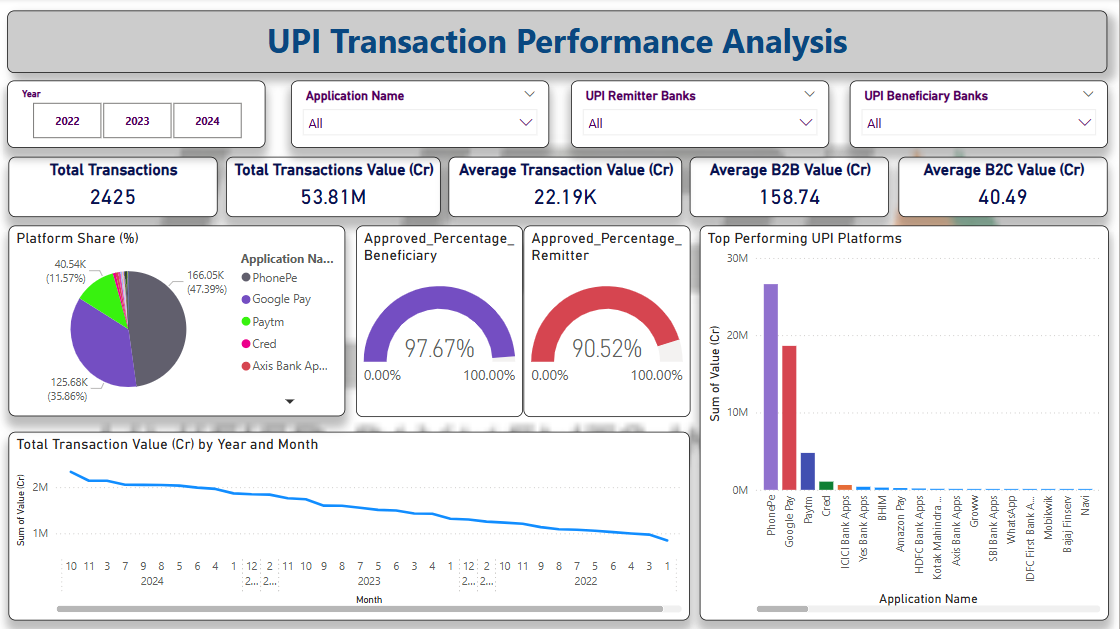

What the dashboard file says about the page in this screenshot:
{"tool":"powerbi","page":{"name":"Page 1","canvas":[1280,720],"ordinal":0},"visuals":[{"type":"textbox","box":[13.5,14.7,1254.6,70.9],"z":0},{"type":"card","title":"Total Transactions","fields":{"Values":["combined_BeneficiaryBanks_data.TotalTransactionVolume"]},"box":[14.7,181,238.5,68.5],"z":1000},{"type":"card","title":"Total Transactions Value (Cr)","fields":{"Values":["combined_BeneficiaryBanks_data.TotalTransactionValue"]},"box":[261.7,181,244.6,68.5],"z":2000},{"type":"card","title":"Average B2B Value (Cr) ","fields":{"Values":["combined_UPI_apps_data.Average B2B Value"]},"box":[791.2,181,227.4,68.5],"z":3000},{"type":"slicer","fields":{"Values":["combined_UPI_apps_data.Application Name"]},"box":[336.3,94.2,294.7,77],"z":4000},{"type":"card","title":"Average B2C Value (Cr)","fields":{"Values":["combined_UPI_apps_data.Average B2C Value"]},"box":[1029.6,181,238.5,68.5],"z":5000},{"type":"card","title":"Average Transaction Value (Cr)","fields":{"Values":["combined_UPI_apps_data.average transaction value"]},"box":[516,181,266.6,68.5],"z":6000},{"type":"slicer","fields":{"Values":["combined_RemitterBanks_data.UPI Remitter Banks"]},"box":[655.4,94.2,294.7,77],"z":7000},{"type":"slicer","fields":{"Values":["combined_UPI_apps_data.Year"]},"box":[13.5,94.2,294.7,77],"z":8000},{"type":"slicer","fields":{"Values":["combined_BeneficiaryBanks_data.UPI Beneficiary Banks"]},"box":[973.4,94.2,294.7,77],"z":9000},{"type":"lineClusteredColumnComboChart","title":"Total Transaction Value (Cr) by Year and Month","fields":{"Category":["combined_UPI_apps_data.Year","combined_UPI_apps_data.Month"],"Y2":["Sum(combined_UPI_apps_data.Value (Cr))"]},"box":[14.3,494.6,776.8,215.2],"z":10000},{"type":"pieChart","title":"Platform Share (%)","fields":{"Y":["Sum(combined_UPI_apps_data.Volume (Mn))"],"Category":["combined_UPI_apps_data.Application Name"]},"box":[14.7,259.2,384,217.7],"z":11000},{"type":"columnChart","title":"Top Performing UPI Platforms ","fields":{"Category":["combined_UPI_apps_data.Application Name"],"Y":["Sum(combined_UPI_apps_data.Value (Cr))"]},"box":[802.5,259.4,466.1,450.4],"z":12000},{"type":"gauge","title":"Approved_Percentage_Beneficiary","fields":{"Y":["Avg(combined_BeneficiaryBanks_data.Approved %)"]},"box":[410.3,259.3,190.7,218.2],"z":12001},{"type":"gauge","title":"Approved_Percentage_Remitter","fields":{"Y":["Avg(combined_RemitterBanks_data.Approved %)"]},"box":[601,259.3,190.7,218.2],"z":12002}]}

Visuals, with their boxes in screenshot pixels (x1, y1, x2, y2), scaled from the page's 1280x720 canvas onto the 1120x629 screenshot:
textbox: detection(12, 13, 1110, 75)
"Total Transactions" card: detection(13, 158, 222, 218)
"Total Transactions Value (Cr)" card: detection(229, 158, 443, 218)
"Average B2B Value (Cr) " card: detection(692, 158, 891, 218)
slicer - combined_UPI_apps_data.Application Name: detection(294, 82, 552, 150)
"Average B2C Value (Cr)" card: detection(901, 158, 1110, 218)
"Average Transaction Value (Cr)" card: detection(452, 158, 685, 218)
slicer - combined_RemitterBanks_data.UPI Remitter Banks: detection(573, 82, 831, 150)
slicer - combined_UPI_apps_data.Year: detection(12, 82, 270, 150)
slicer - combined_BeneficiaryBanks_data.UPI Beneficiary Banks: detection(852, 82, 1110, 150)
"Total Transaction Value (Cr) by Year and Month" lineClusteredColumnComboChart: detection(13, 432, 692, 620)
"Platform Share (%)" pieChart: detection(13, 226, 349, 417)
"Top Performing UPI Platforms " columnChart: detection(702, 227, 1110, 620)
"Approved_Percentage_Beneficiary" gauge: detection(359, 227, 526, 417)
"Approved_Percentage_Remitter" gauge: detection(526, 227, 693, 417)
